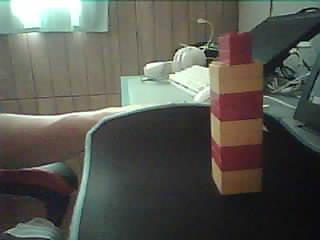lego: (210, 32, 264, 195)
